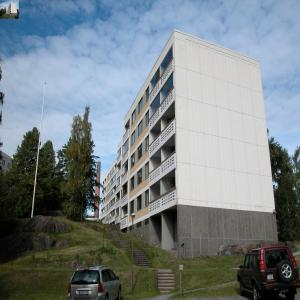Vehicle-registration-plate: (267, 273, 275, 281), (79, 290, 90, 295)
